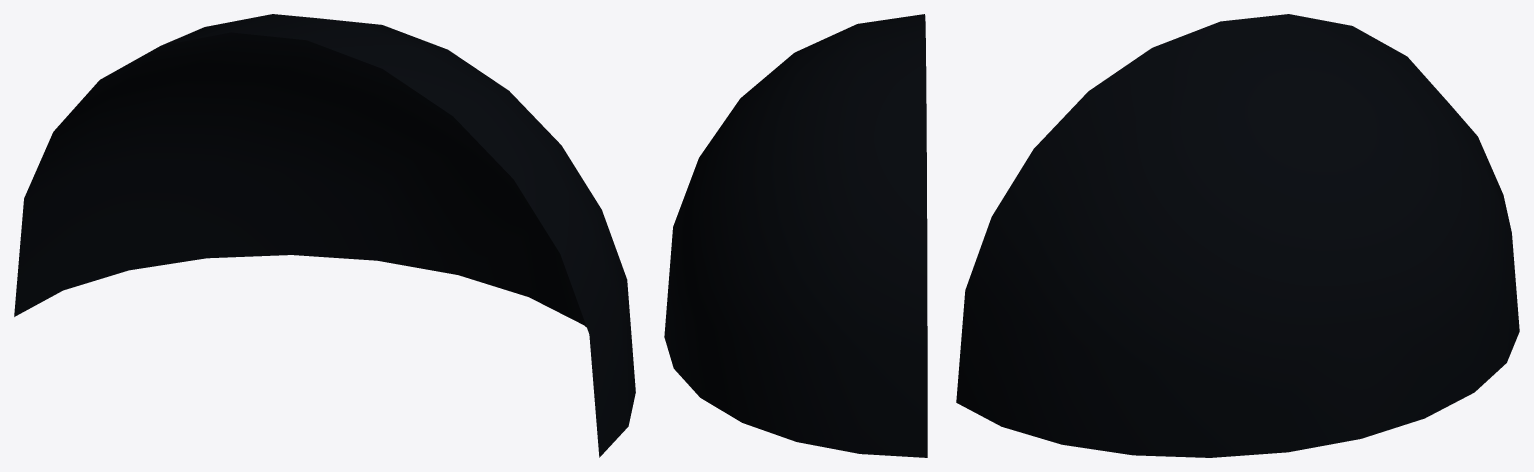
File: Entrance.fbx
The picture shows the model from 3 angles, left to right: view 1: azimuth 30°, elevation 25°; view 2: azimuth 150°, elevation 25°; view 3: azimuth 270°, elevation 25°; orthographic projection. The views are drawn at different scales.
Visible parts, largest first — view 1: Sphere_1; view 2: Sphere_1; view 3: Sphere_1.
Boxes of the visible parts, x1,y1,x2,y2 form: Sphere_1: (14, 14, 635, 457); Sphere_1: (664, 14, 927, 457); Sphere_1: (956, 14, 1519, 457).
Bounding box in the file's own units: 1700 × 1346 × 2176.
1 material, 1 textured.
